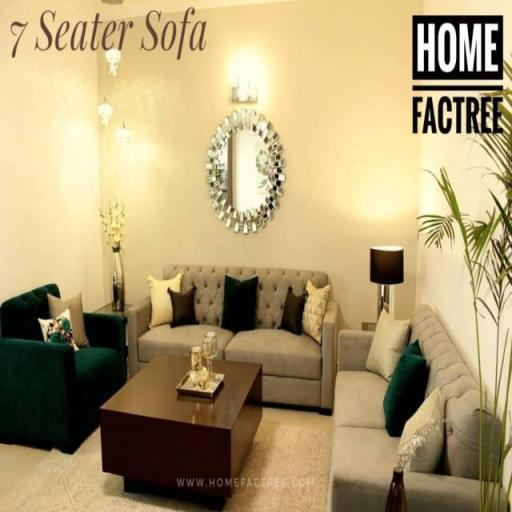sofa: (337, 296, 512, 512), (147, 236, 337, 422)
